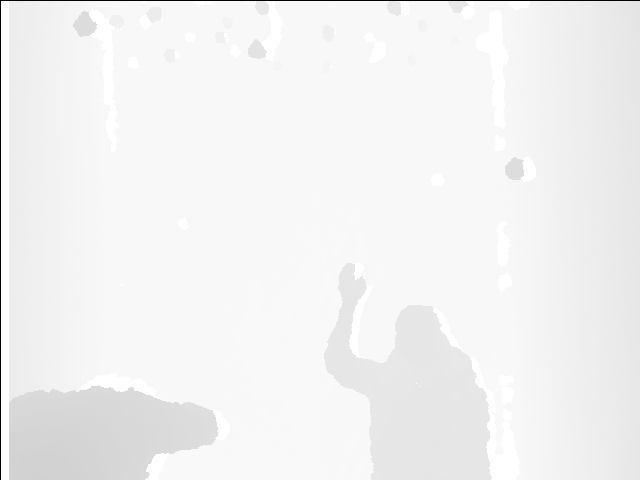hand: (336, 258, 366, 310)
